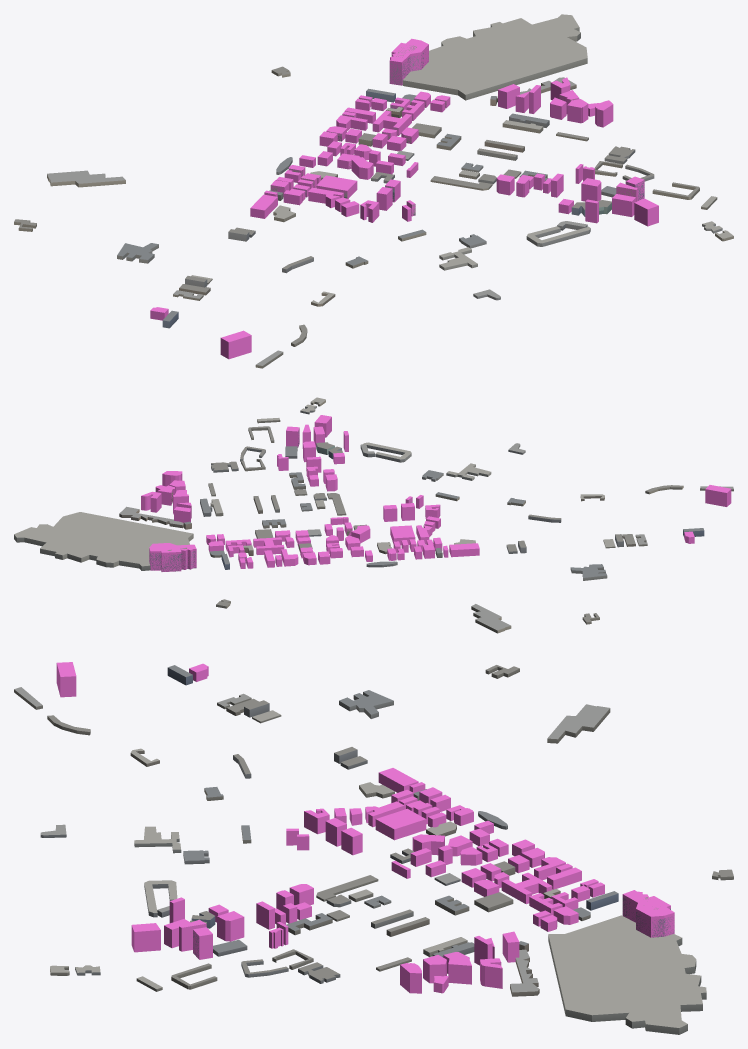
Rendered from bld_8_4.fbx.
3 views of the same model, one above another, from view 1: azimuth 30°, elevation 25°; view 2: azimuth 150°, elevation 25°; view 3: azimuth 270°, elevation 25° (orthographic). The views are drawn at different scales.
Visible parts, largest first — view 1: bld_8_4_LOD0, bld_8_4_COL; view 2: bld_8_4_LOD0, bld_8_4_COL; view 3: bld_8_4_LOD0, bld_8_4_COL.
Boxes of the visible parts, <box> form: bld_8_4_LOD0: <box>14,14,733,368</box>; bld_8_4_COL: <box>150,38,658,359</box>; bld_8_4_LOD0: <box>14,397,733,633</box>; bld_8_4_COL: <box>141,415,731,571</box>; bld_8_4_LOD0: <box>14,665,733,1034</box>; bld_8_4_COL: <box>56,662,674,993</box>.
Size of what is drawn, in the model's own units: 2314 by 81.85 by 1919.
